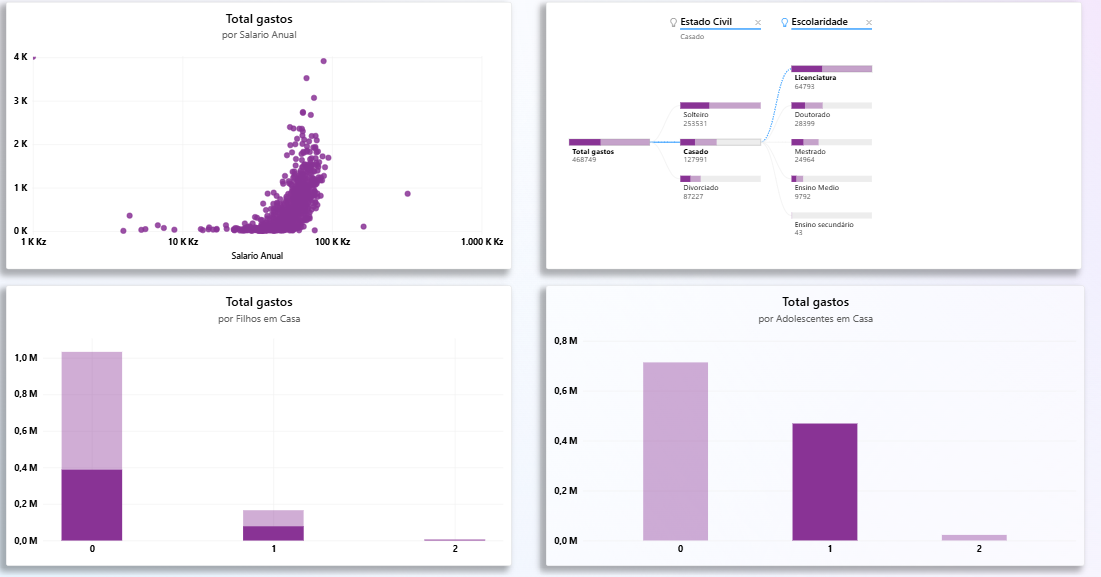

The page's visual inventory and layout, read from the dashboard file:
{"tool":"powerbi","page":{"name":"Visão comportamento","canvas":[1920,1080],"ordinal":1},"visuals":[{"type":"scatterChart","fields":{"X":["DadosMarketing.Salario Anual"],"Y":["DadosMarketing.Total gastos"]},"box":[29.1,141.7,818.5,432.3],"z":0},{"type":"clusteredColumnChart","fields":{"Category":["DadosMarketing.Filhos em Casa"],"Y":["DadosMarketing.Total gastos"]},"box":[29.1,599.9,818.5,454.2],"z":1},{"type":"clusteredColumnChart","fields":{"Category":["DadosMarketing.Adolescentes em Casa"],"Y":["DadosMarketing.Total gastos"]},"box":[903.5,599.9,872,454.2],"z":2},{"type":"decompositionTreeVisual","fields":{"Analyze":["DadosMarketing.Total gastos"],"ExplainBy":["DadosMarketing.Estado Civil","DadosMarketing.Escolaridade"]},"box":[903.5,141.7,867.1,432.3],"z":3},{"type":"textbox","box":[548.9,0,879.2,140.9],"z":5}]}

Visuals, with their boxes on the page's 1920x1080 design canvas (x1, y1, x2, y2). These are canvas units, not pixel positions in the 1101x577 screenshot, which may show the page scaled, cropped or inside an application window:
scatterChart - DadosMarketing.Salario Anual x DadosMarketing.Total gastos: (29, 142, 848, 574)
clusteredColumnChart - DadosMarketing.Filhos em Casa x DadosMarketing.Total gastos: (29, 600, 848, 1054)
clusteredColumnChart - DadosMarketing.Adolescentes em Casa x DadosMarketing.Total gastos: (904, 600, 1776, 1054)
decompositionTreeVisual - DadosMarketing.Total gastos x DadosMarketing.Estado Civil: (904, 142, 1771, 574)
textbox: (549, 0, 1428, 141)
